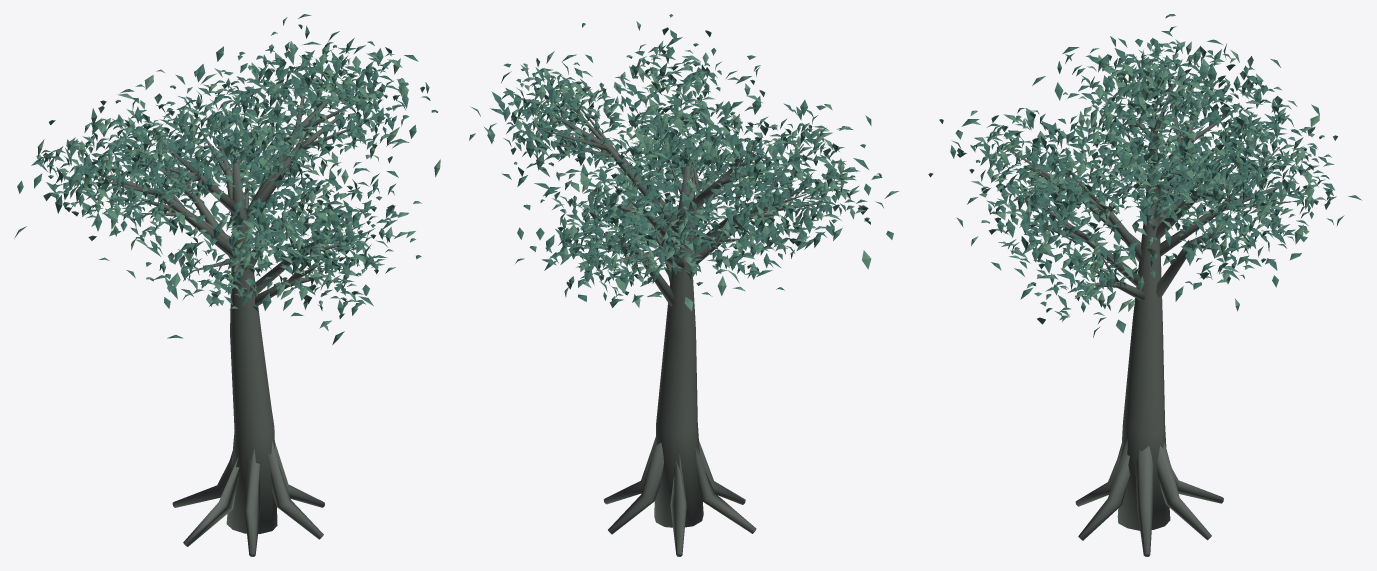
File: kapok.glb
The picture shows the model from 3 angles, left to right: view 1: azimuth 30°, elevation 25°; view 2: azimuth 150°, elevation 25°; view 3: azimuth 270°, elevation 25°; orthographic projection.
Parts seen in each view (by area): view 1: Moonwater kapok leaves, Moonwater kapok branches; view 2: Moonwater kapok leaves, Moonwater kapok branches; view 3: Moonwater kapok leaves, Moonwater kapok branches.
Part boxes in pixels (x1,y1,x2,y2): Moonwater kapok leaves: (14, 14, 440, 344); Moonwater kapok branches: (97, 70, 366, 556); Moonwater kapok leaves: (469, 14, 899, 311); Moonwater kapok branches: (539, 92, 829, 556); Moonwater kapok leaves: (928, 14, 1361, 337); Moonwater kapok branches: (1005, 77, 1291, 556).
Bounding box in the file's own units: 7.6 × 9.02 × 7.06.
